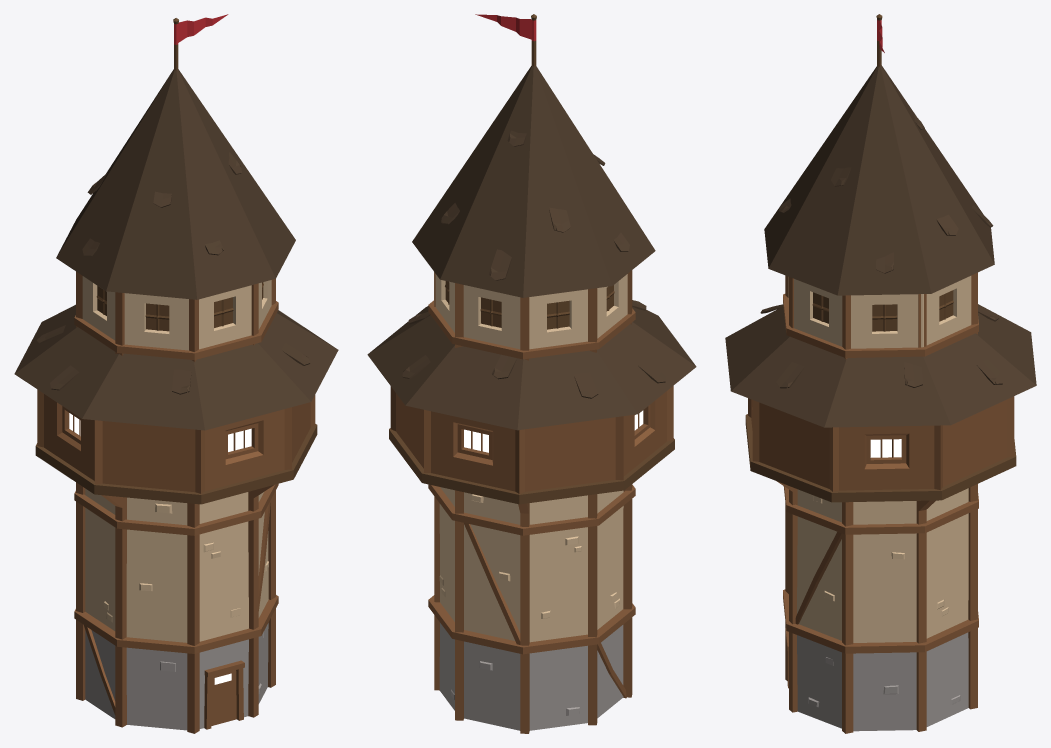
Rendered from medieval-tower-medieval-big.glb.
3 views of the same model, side by side, from view 1: azimuth 30°, elevation 25°; view 2: azimuth 150°, elevation 25°; view 3: azimuth 270°, elevation 25° (orthographic).
Parts seen in each view (by area): view 1: tower-medieval-big; view 2: tower-medieval-big; view 3: tower-medieval-big.
Boxes of the visible parts, x1,y1,x2,y2 form: tower-medieval-big: (14,14,338,733); tower-medieval-big: (367,14,696,733); tower-medieval-big: (725,14,1036,733).
Size of the model in its own units: 9.24 by 22.29 by 9.24.
